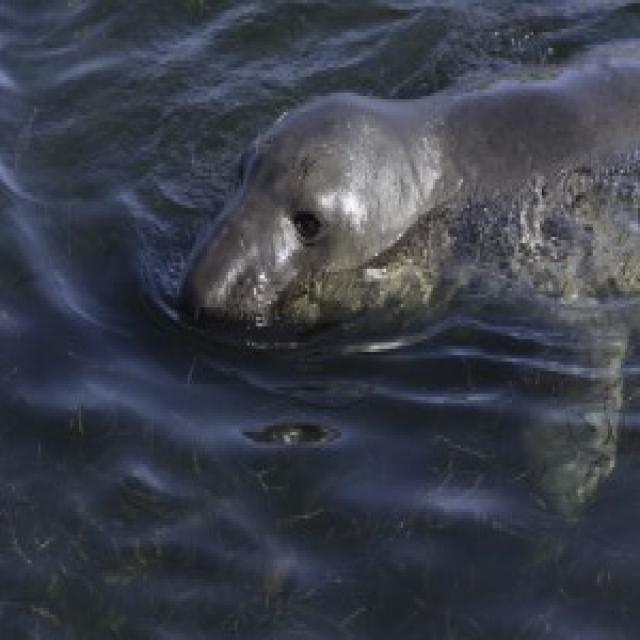Seal: (164, 45, 640, 400)
